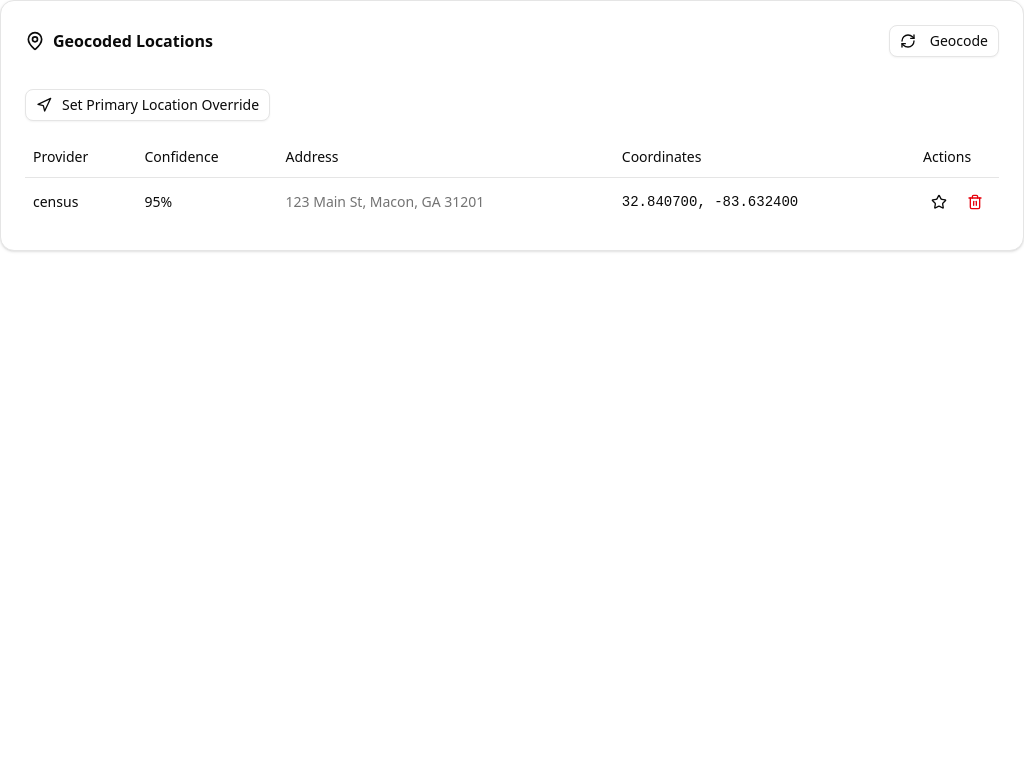
GeocodedLocationsCard › remove action › closes dialog on cancel
The image size is (1024, 768).
Click the button titled "Remove": click(975, 202) [959,186,991,218]
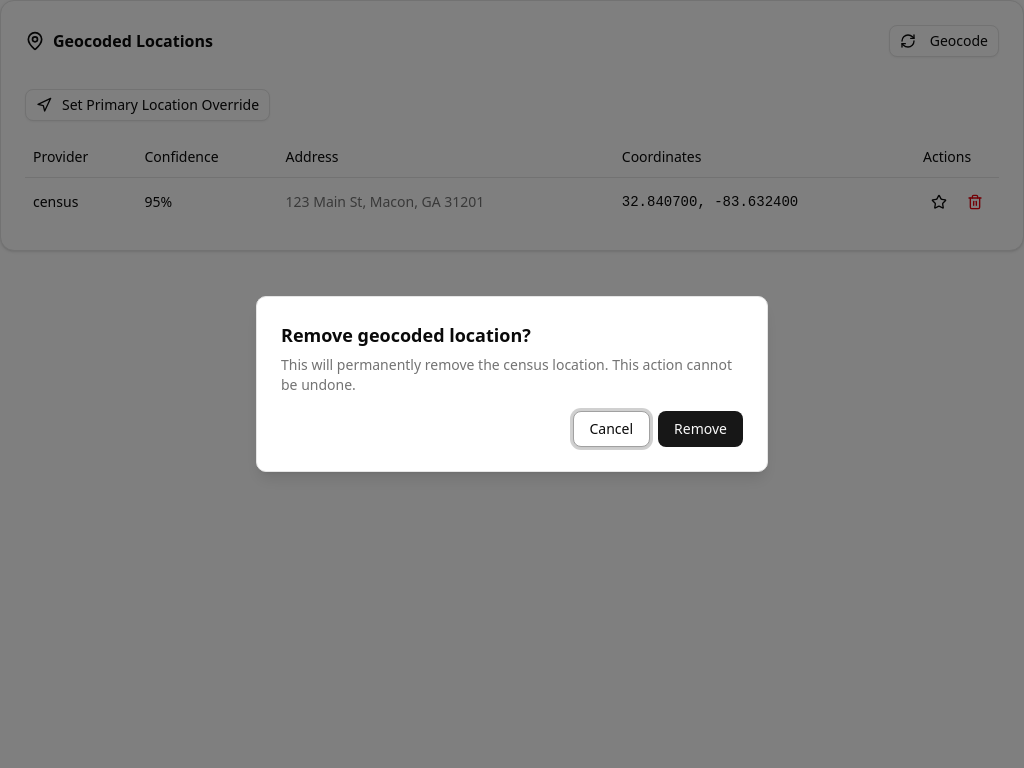
expect the heading "Remove geocoded location?" is shown: met, box [281,321,531,349]
Click the button "Cancel": click(611, 429) [572,411,650,447]
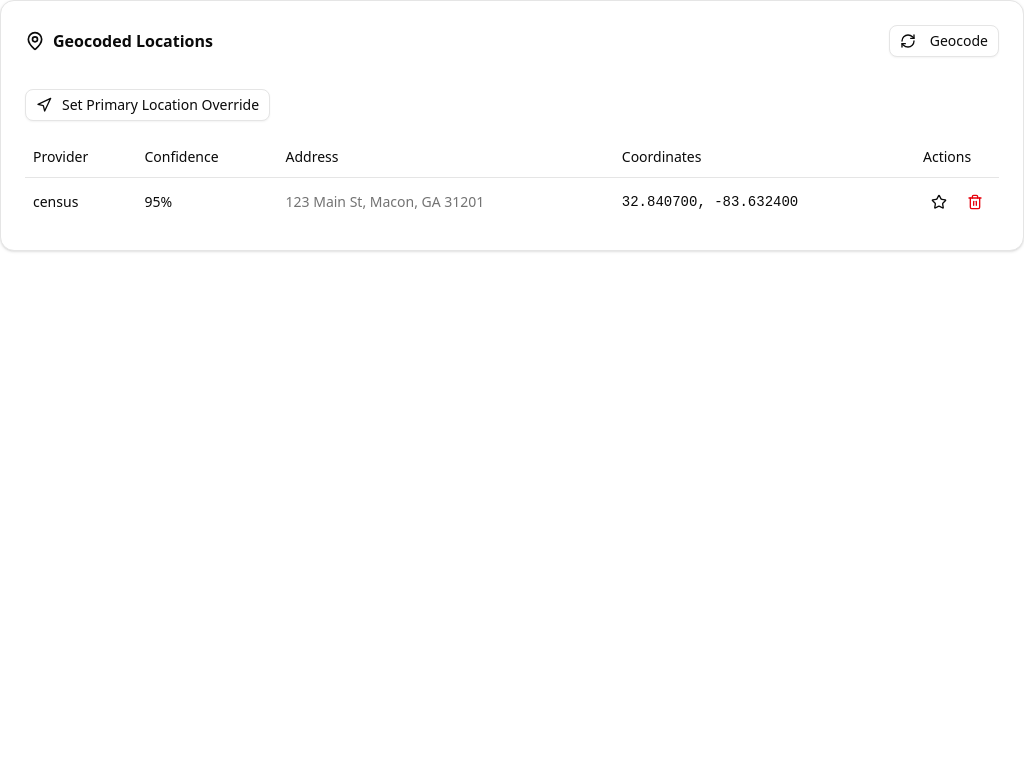
expect the heading "Remove geocoded location?" is gone: met
